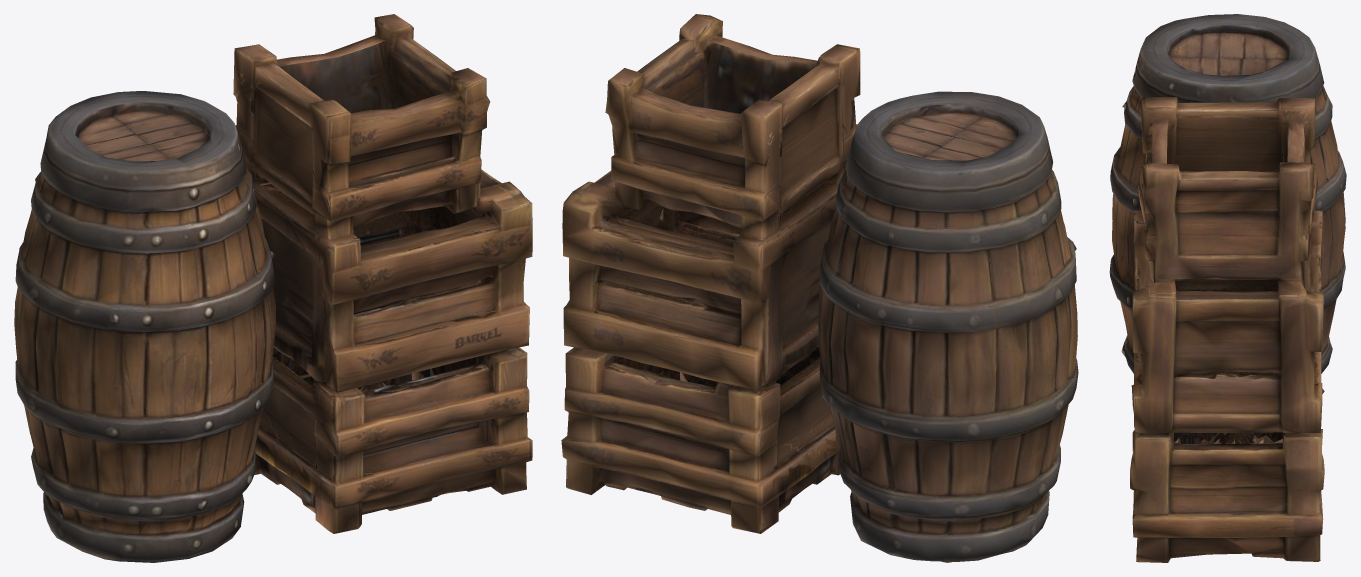
File: barrels_crates.glb
3 views of the same model, side by side, from view 1: azimuth 30°, elevation 25°; view 2: azimuth 150°, elevation 25°; view 3: azimuth 270°, elevation 25° (orthographic). The views are drawn at different scales.
Parts seen in each view (by area): view 1: model; view 2: model; view 3: model.
Boxes of the visible parts, box(x1,y1,x2,y2) form: model: box(14, 14, 532, 562); model: box(561, 14, 1078, 562); model: box(1109, 14, 1346, 562).
Bounding box in the file's own units: 2.01 × 1.79 × 1.02.
1 material, 1 textured.
